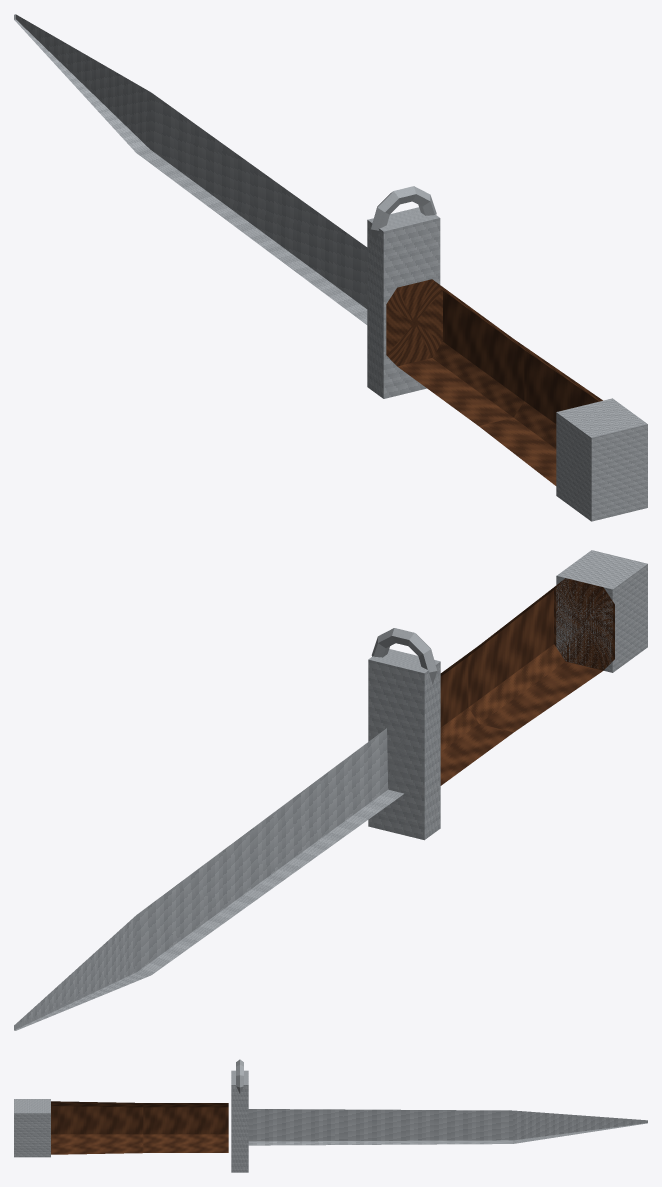
The model's file is bajonet_m1924.glb.
3 renders of one model, top to bottom at view 1: azimuth 30°, elevation 25°; view 2: azimuth 150°, elevation 25°; view 3: azimuth 270°, elevation 25°, orthographic. The views are drawn at different scales.
Visible parts, largest first — view 1: WeaponMesh; view 2: WeaponMesh; view 3: WeaponMesh.
Part boxes in pixels (x1,y1,x2,y2): WeaponMesh: [14, 14, 647, 521]; WeaponMesh: [14, 550, 647, 1030]; WeaponMesh: [14, 1059, 647, 1172].
Bounding box in the file's own units: 0.028 × 0.0803 × 0.446.
2 materials, 2 textured.
